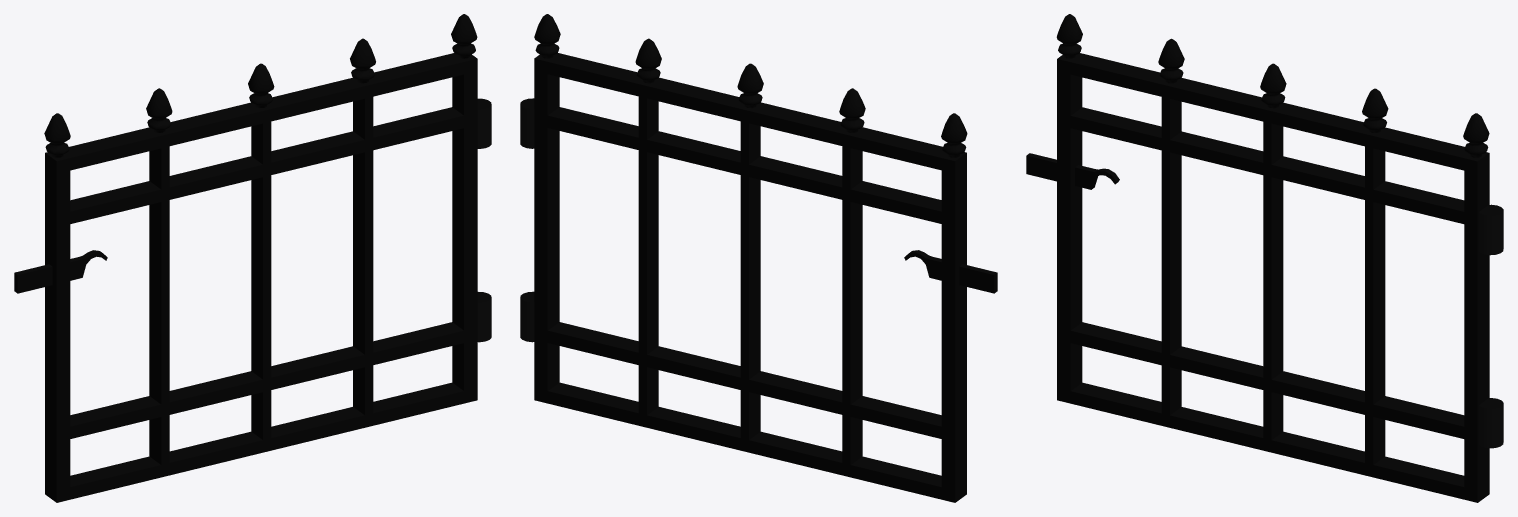
Rendered from gate.fbx.
3 views of the same model, side by side, from view 1: azimuth 30°, elevation 25°; view 2: azimuth 150°, elevation 25°; view 3: azimuth 330°, elevation 25° (orthographic).
Parts seen in each view (by area): view 1: gate; view 2: gate; view 3: gate.
Boxes of the visible parts, bbox=[...] form: gate: bbox=[14, 14, 491, 502]; gate: bbox=[520, 14, 997, 502]; gate: bbox=[1026, 14, 1503, 502].
Bounding box in the file's own units: 279 × 216 × 13.98.
Materials: 1 (1 with a texture image).
